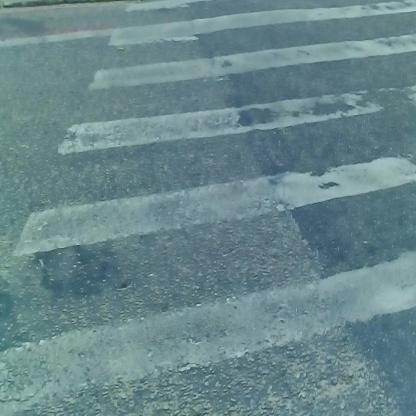crosswalk: (23, 13, 416, 385)
